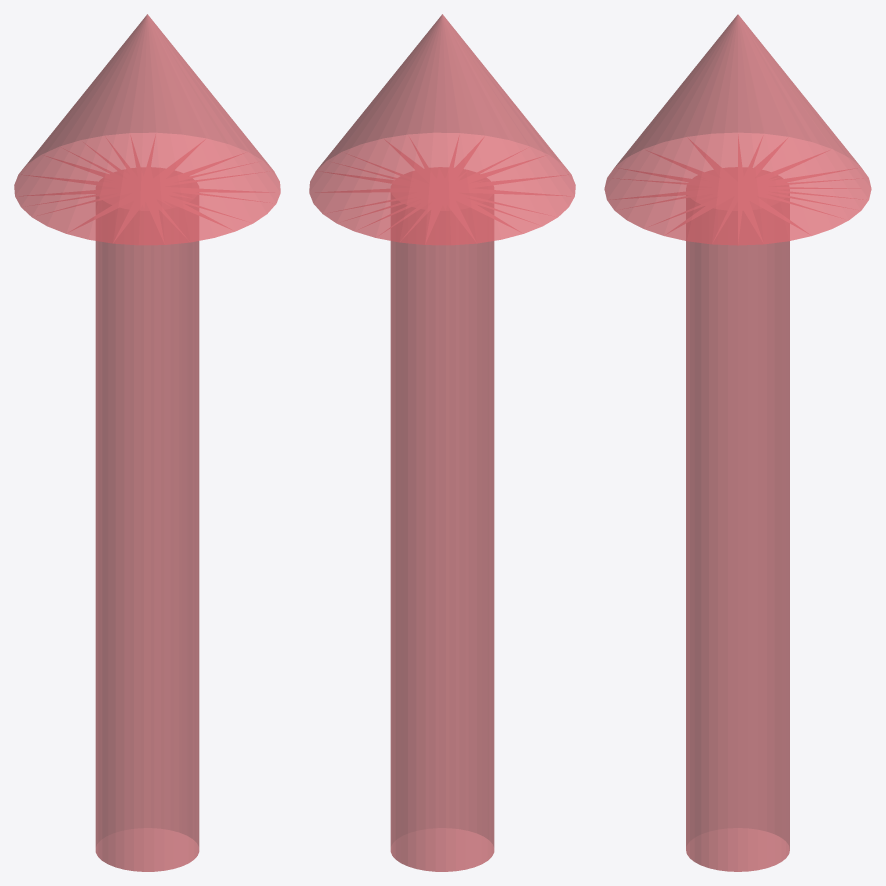
Rendered from arrow.dae.
3 views of the same model, side by side, from view 1: azimuth 30°, elevation 25°; view 2: azimuth 150°, elevation 25°; view 3: azimuth 270°, elevation 25° (orthographic).
Visible parts, largest first — view 1: arrow; view 2: arrow; view 3: arrow.
Boxes of the visible parts, box(x1,y1,x2,y2) form: arrow: box(14, 14, 280, 871); arrow: box(309, 14, 575, 871); arrow: box(604, 14, 871, 871).
Size of the model in its own units: 0.1381 by 0.1381 by 0.4768.
